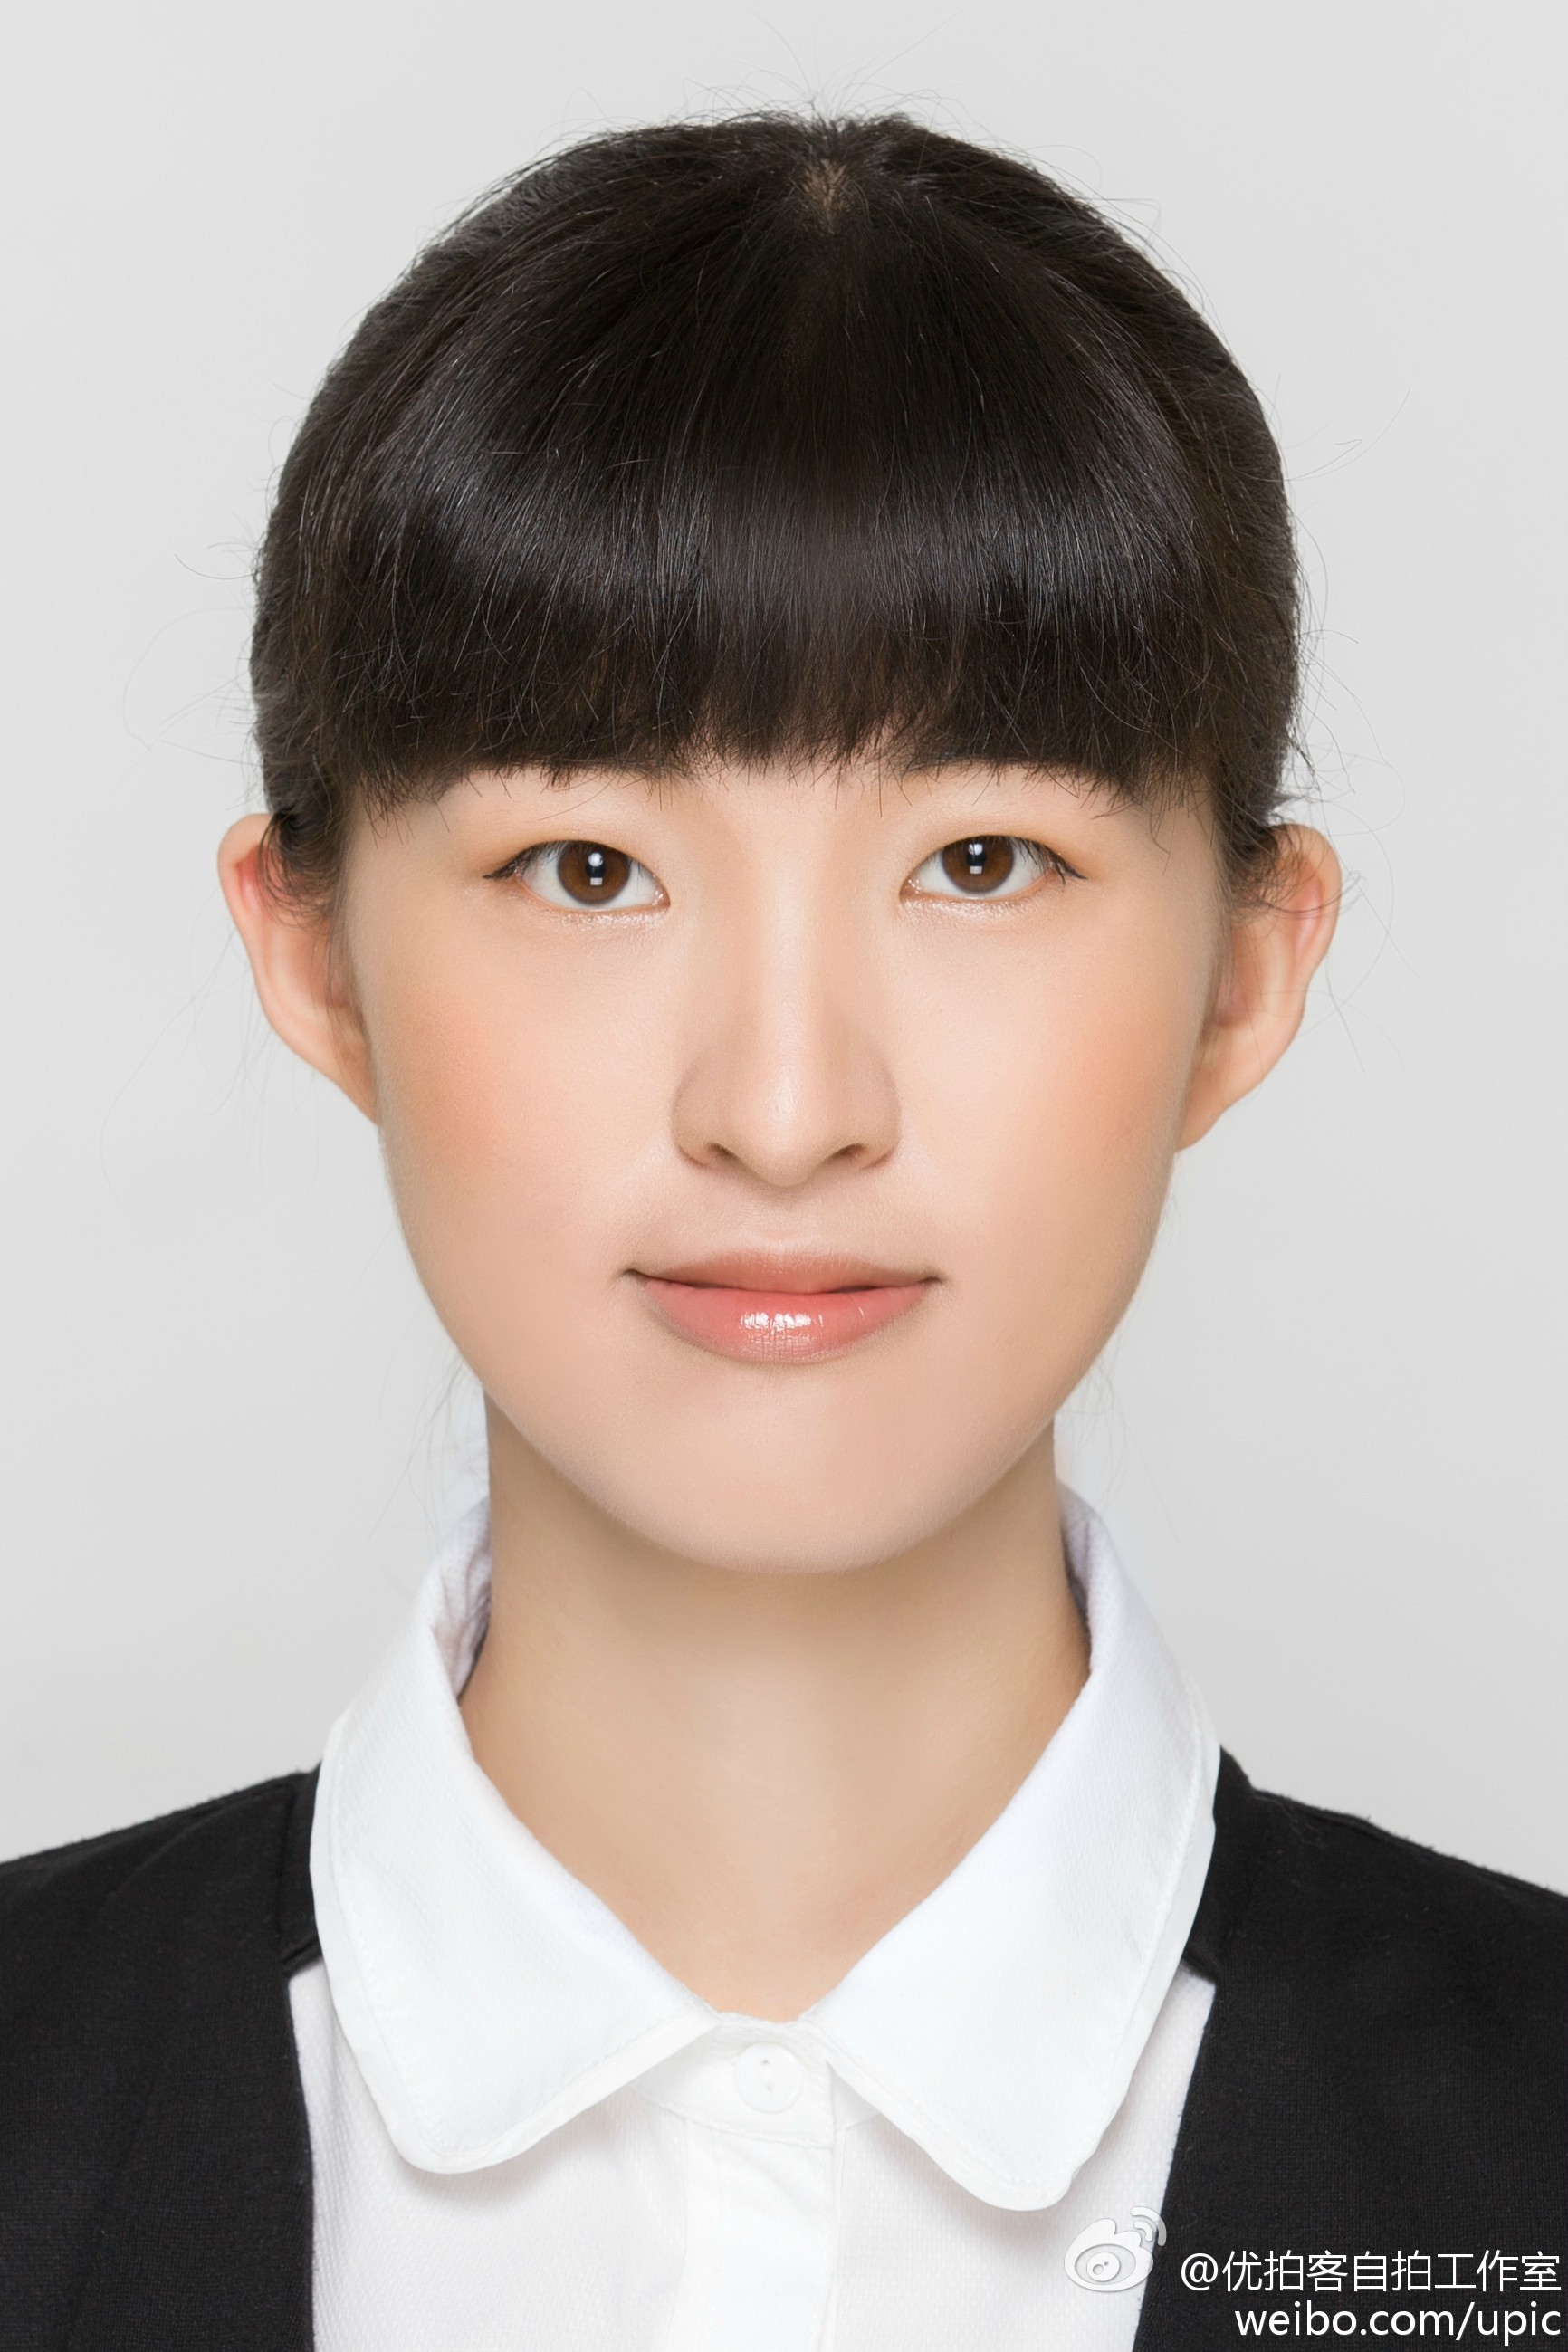unmask: (326, 645, 1280, 1554)
